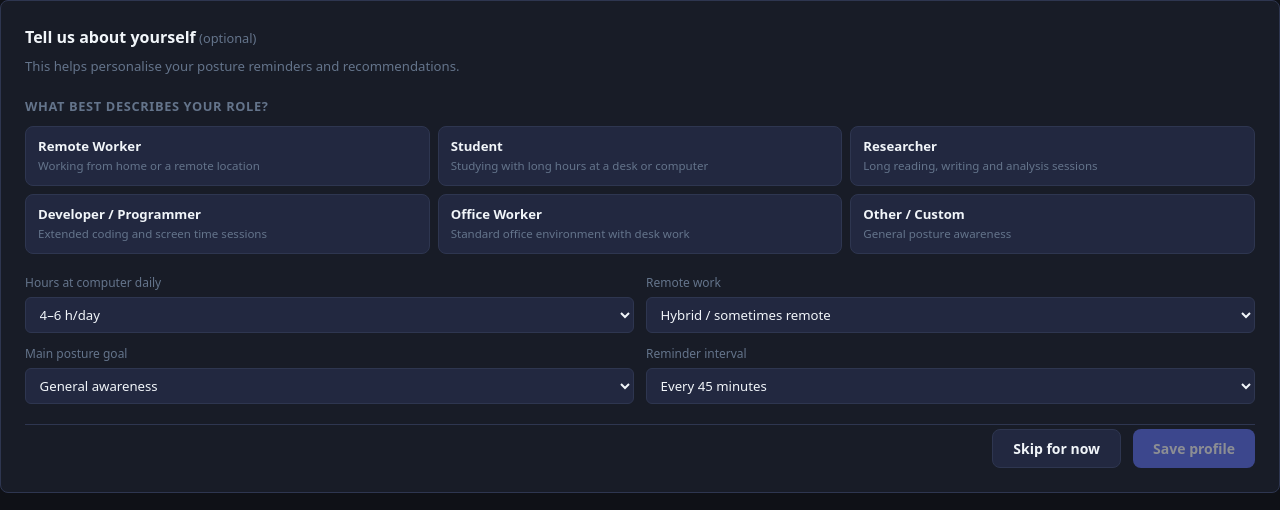
Test: ProfileSetup — no profile (edit mode) › enables Save profile after selecting a role
This screenshot has width=1280, height=510.
What coordinates should you click on to do the following:
click the button "Remote Worker Working from home or a remote location"
I would click on:
 (227, 156)
Its box is [25,126,430,186].
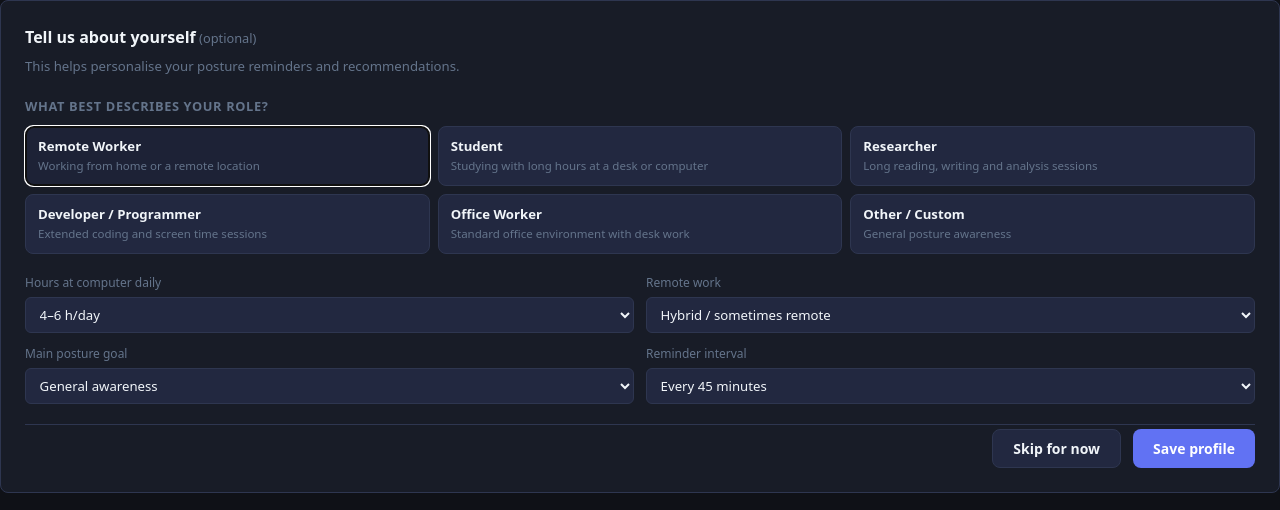
Expected: the button "Save profile" is enabled, [1133,429,1255,468]
